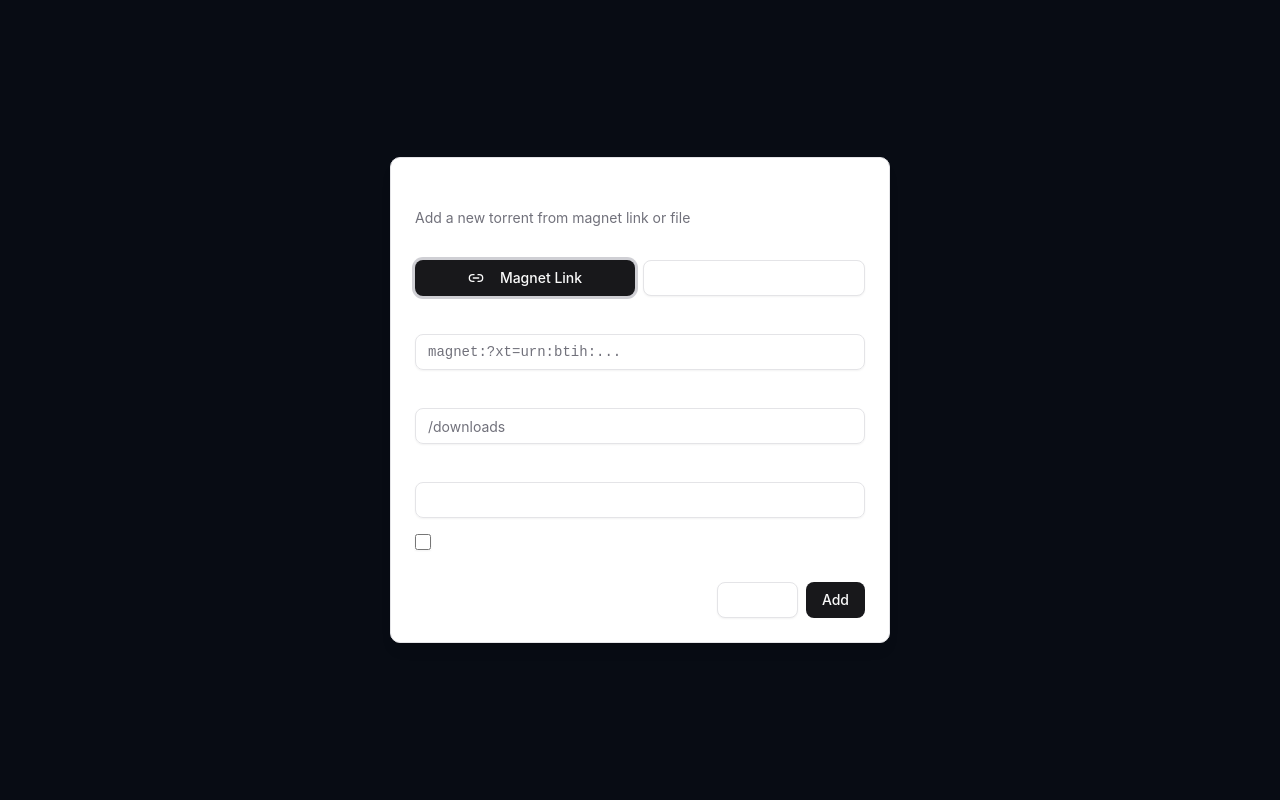
Test: AddTorrentModal Component › Form Input Handling - Magnet Link › clears error when typing in magnet link field
The width and height of the screenshot is (1280, 800).
# Try to submit without magnet link to trigger error
Click the button "Add": (835, 600) 806,582 -> 865,618
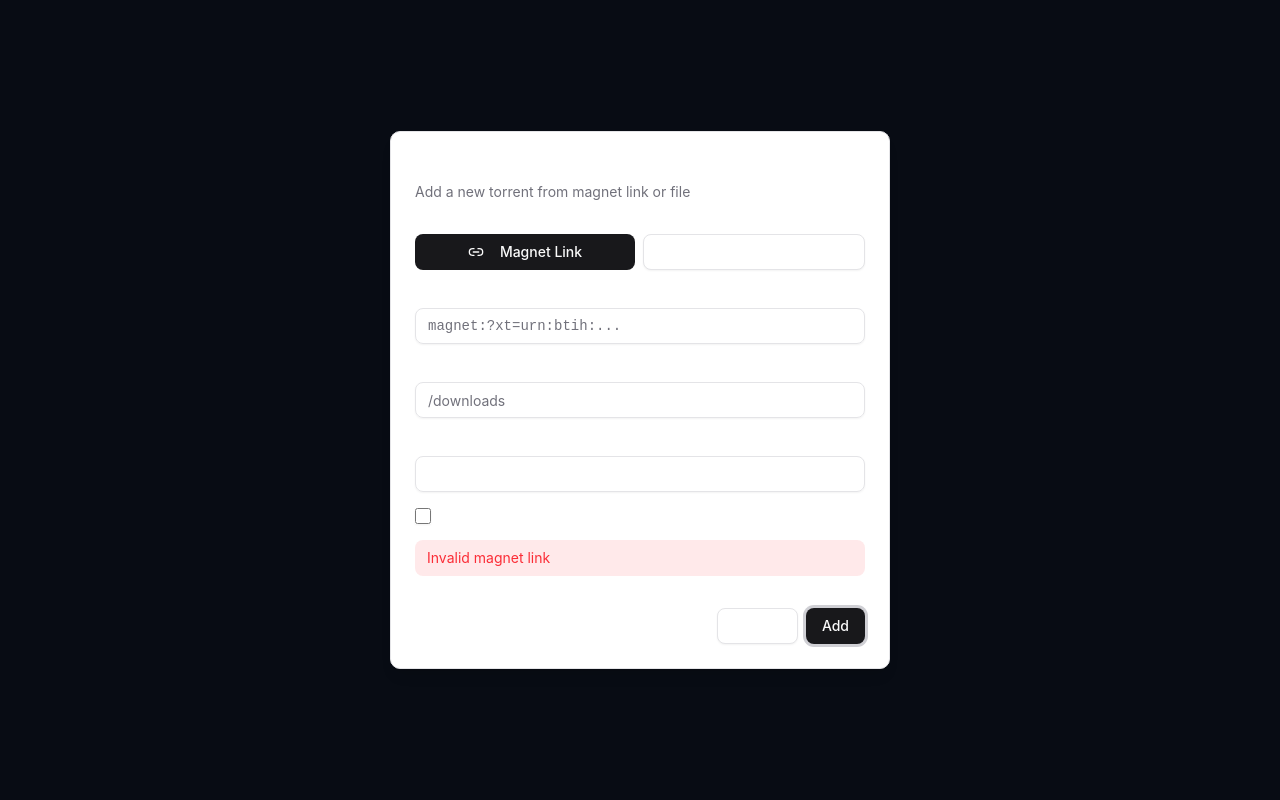
Now the text "Invalid magnet link" is shown, box 415,540 -> 865,576
# Type in magnet link field
In the field labelled "Magnet Link": (640, 326) 415,308 -> 865,344, type "magnet:?xt=urn:btih:test"
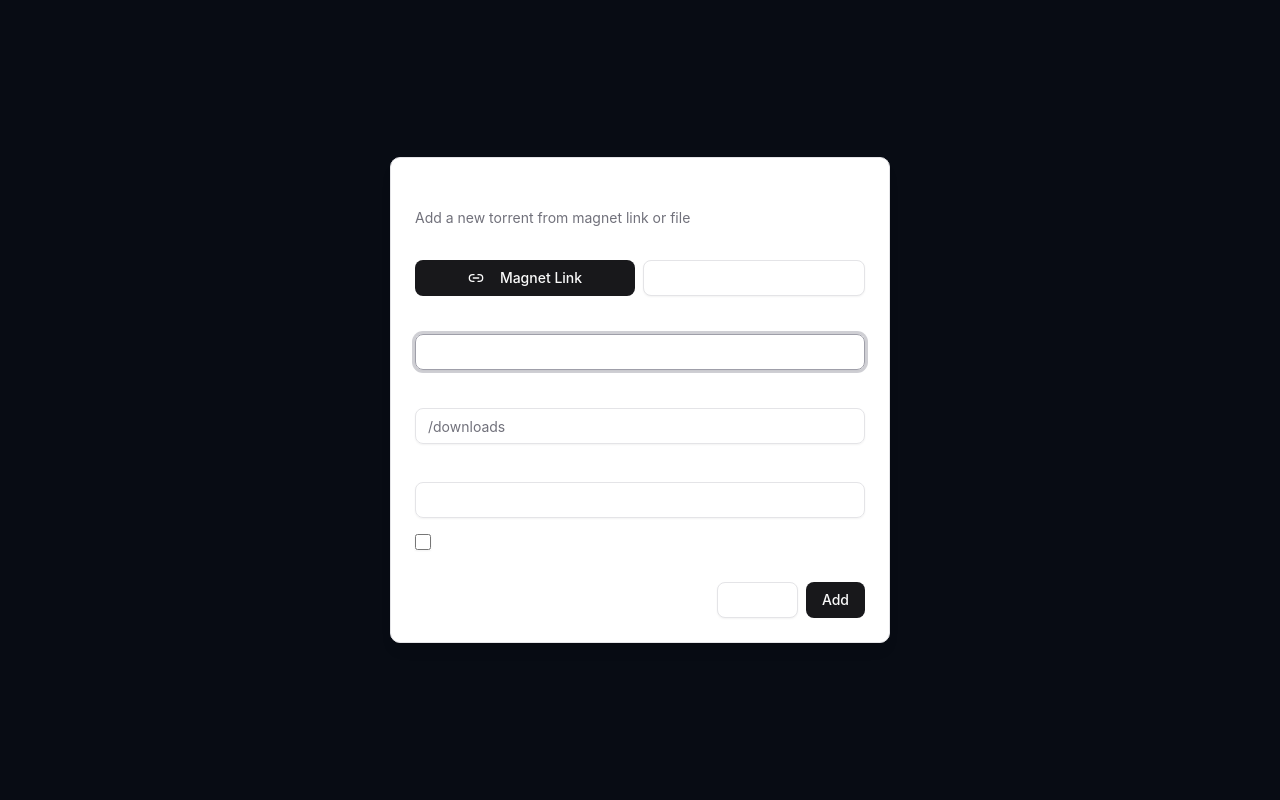
Now the text "Invalid magnet link" is gone
